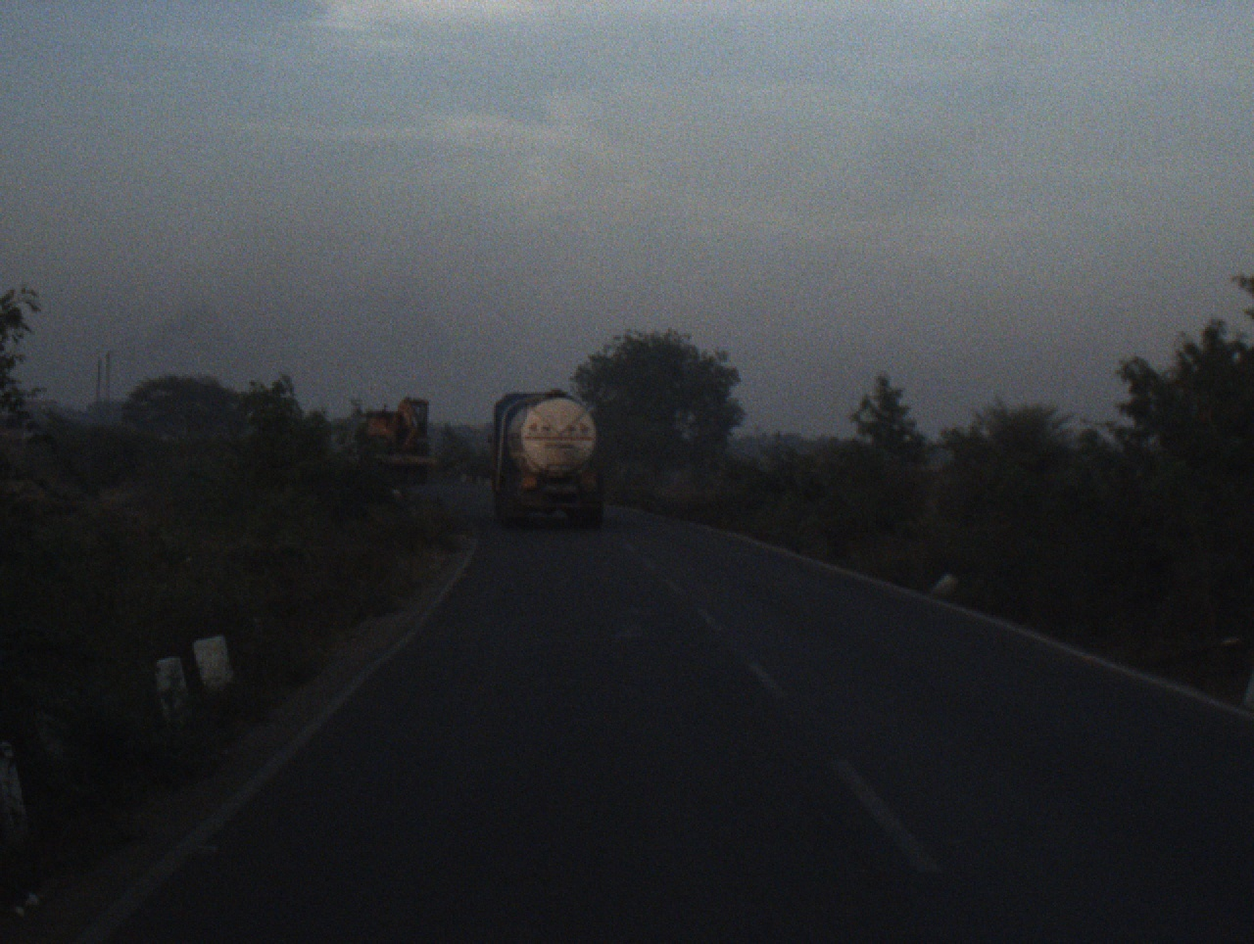truck: (494, 386, 608, 526)
vehicle fallback: (351, 395, 442, 497)
